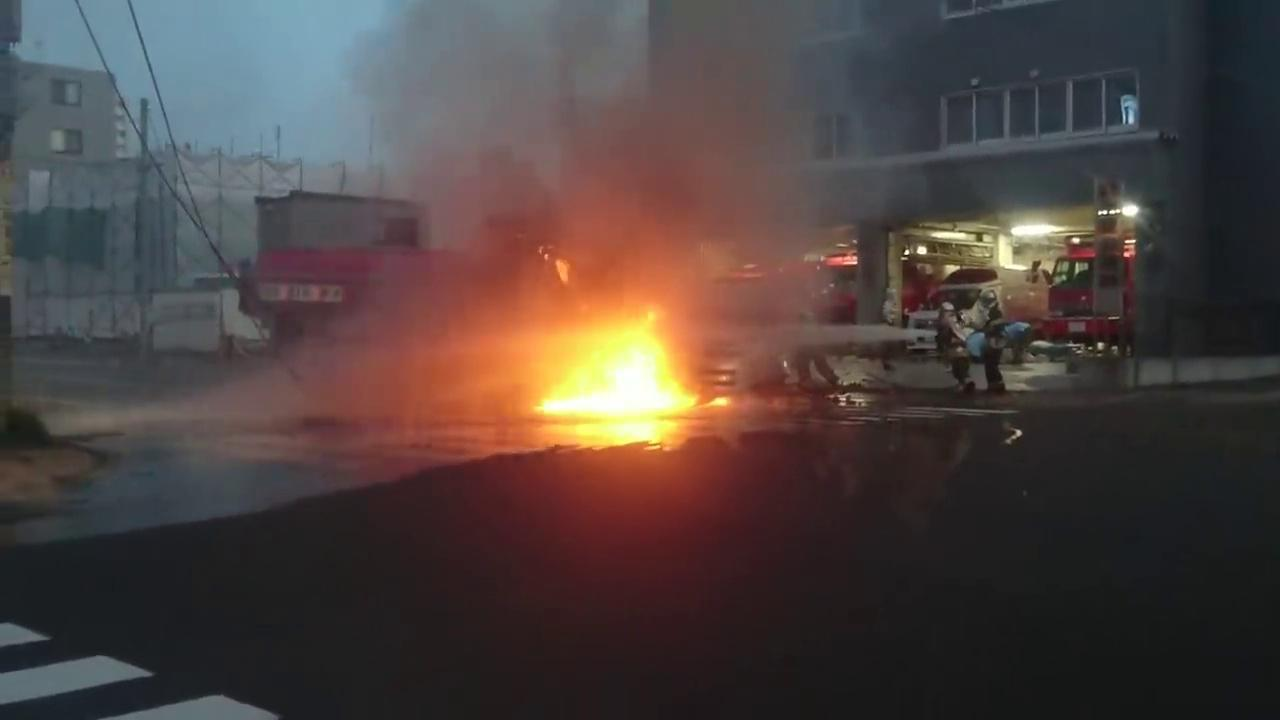Fire: (529, 333, 688, 417), (703, 394, 735, 409)
